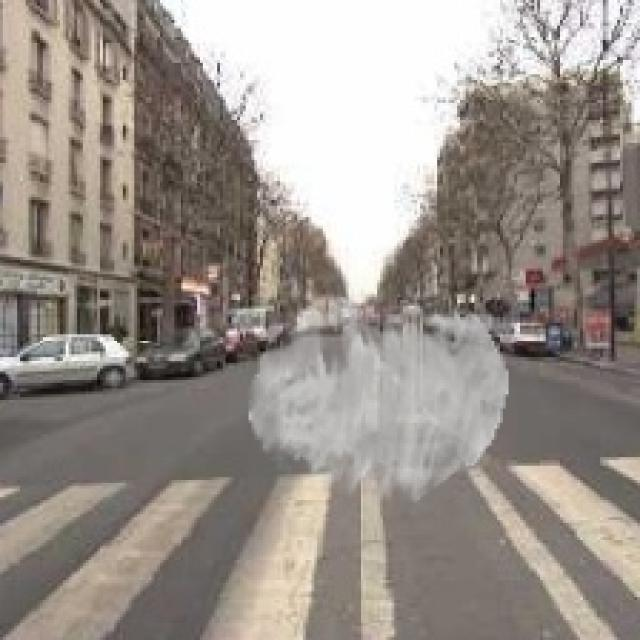smoke: (248, 297, 508, 506)
